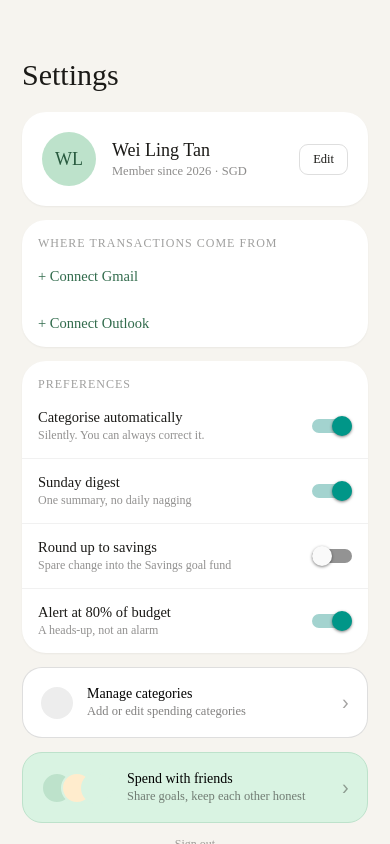
connecting a brand-new provider shows the backfill sheet
Step 1. Click the text with test id "connect-microsoft" → (94, 323), box [38,315,149,331]
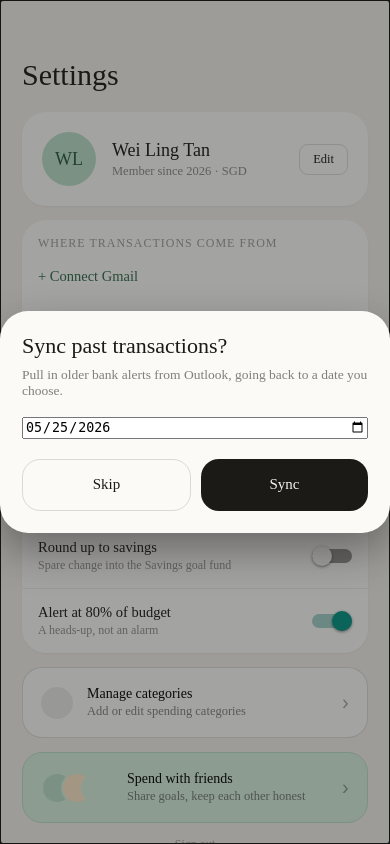
Now the element with test id "sync-backfill-sheet" is shown
